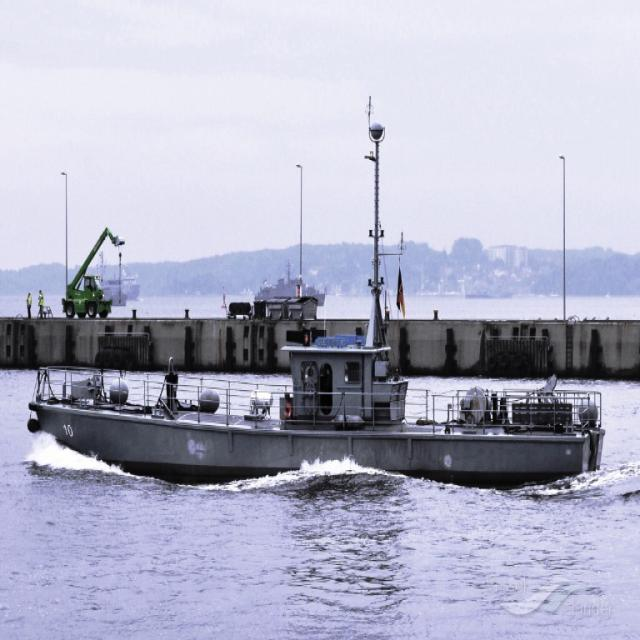OCR: (63, 415, 75, 444)
